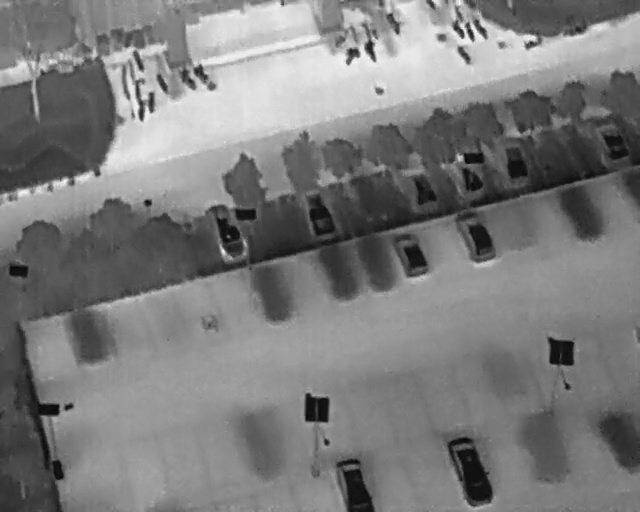Bicycle: (188, 59, 221, 97), (559, 16, 595, 41), (174, 64, 201, 96), (451, 40, 476, 70), (340, 42, 364, 70), (519, 30, 547, 54), (469, 14, 492, 42), (361, 36, 382, 66), (152, 69, 173, 98), (129, 47, 149, 74), (385, 9, 404, 37), (330, 27, 350, 52), (460, 17, 478, 44), (448, 17, 468, 40), (345, 21, 364, 45), (356, 18, 375, 42), (123, 57, 139, 85), (135, 96, 149, 123), (451, 2, 467, 24), (132, 79, 145, 102), (115, 62, 129, 83), (147, 90, 157, 115), (121, 83, 132, 100), (426, 0, 438, 10)
Car: (444, 431, 496, 511), (201, 196, 255, 270), (449, 201, 501, 269), (385, 223, 434, 286), (296, 181, 341, 245), (442, 145, 490, 202), (588, 113, 636, 170), (398, 155, 443, 215), (491, 133, 535, 189), (332, 456, 377, 510)
